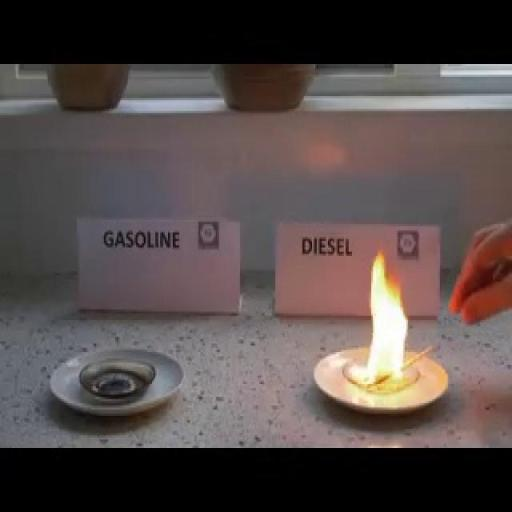smoke: (348, 269, 414, 390)
